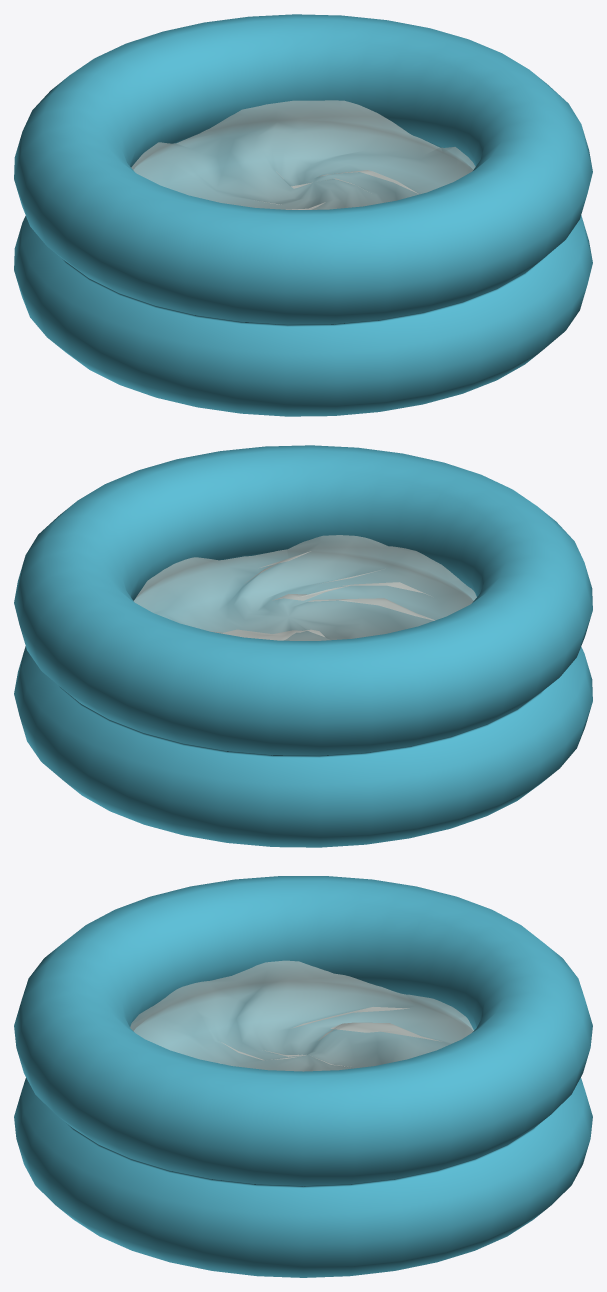
File: pricine.fbx
The picture shows the model from 3 angles, top to bottom: view 1: azimuth 30°, elevation 25°; view 2: azimuth 150°, elevation 25°; view 3: azimuth 270°, elevation 25°; orthographic projection.
Parts seen in each view (by area): view 1: pool mesh, eau; view 2: pool mesh, eau; view 3: pool mesh, eau.
Boxes of the visible parts, left/top/right/bottom form: pool mesh: left=14, top=14, right=592, bottom=416; eau: left=131, top=100, right=475, bottom=209; pool mesh: left=14, top=445, right=592, bottom=847; eau: left=134, top=535, right=476, bottom=640; pool mesh: left=14, top=876, right=592, bottom=1277; eau: left=130, top=960, right=473, bottom=1071.
Size of what is drawn, in the model's own units: 249 by 93.3 by 250.
